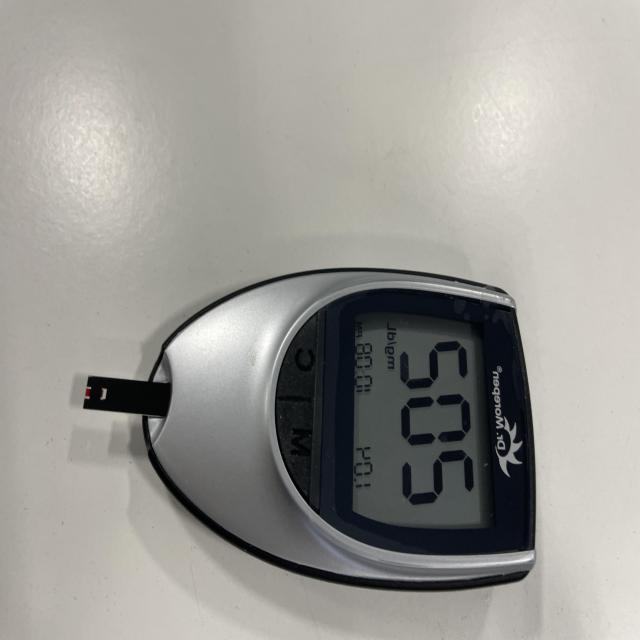gluco: (89, 268, 538, 594)
